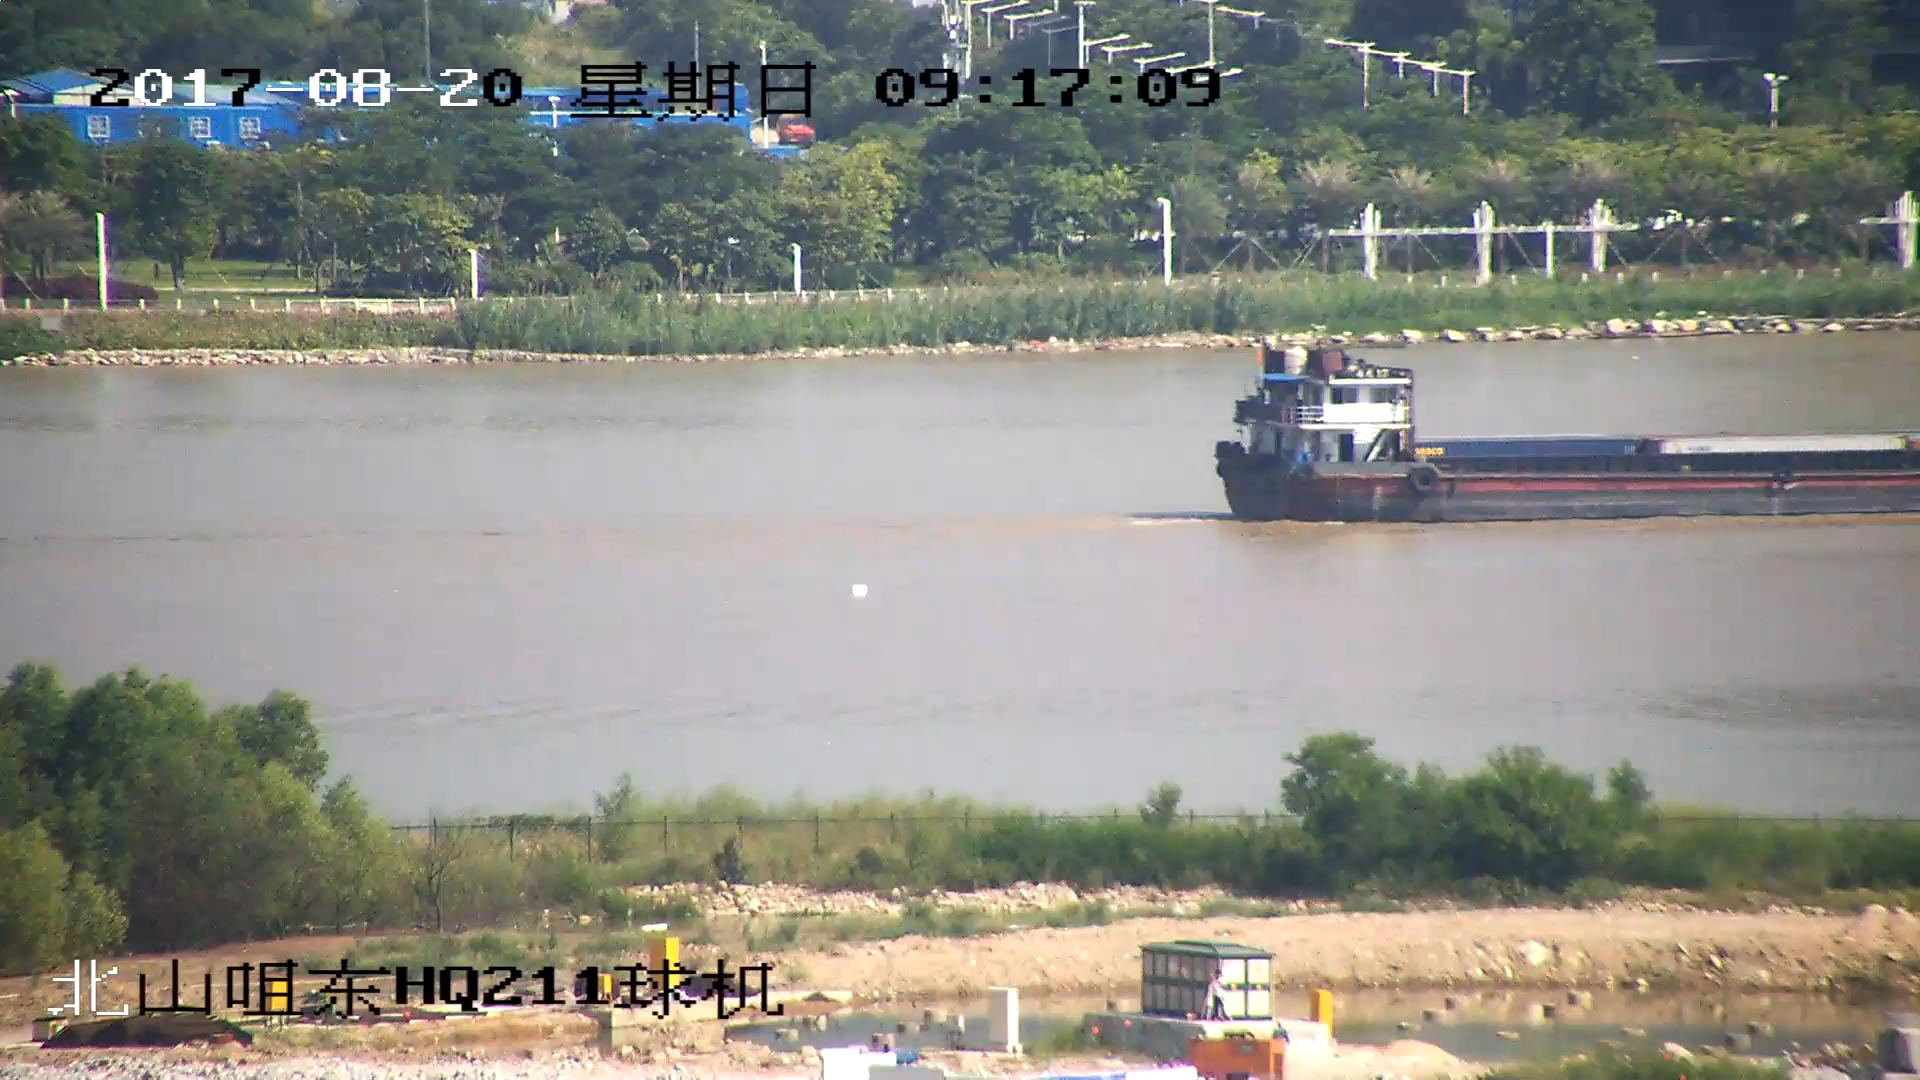general cargo ship: (1214, 347, 1920, 524)
